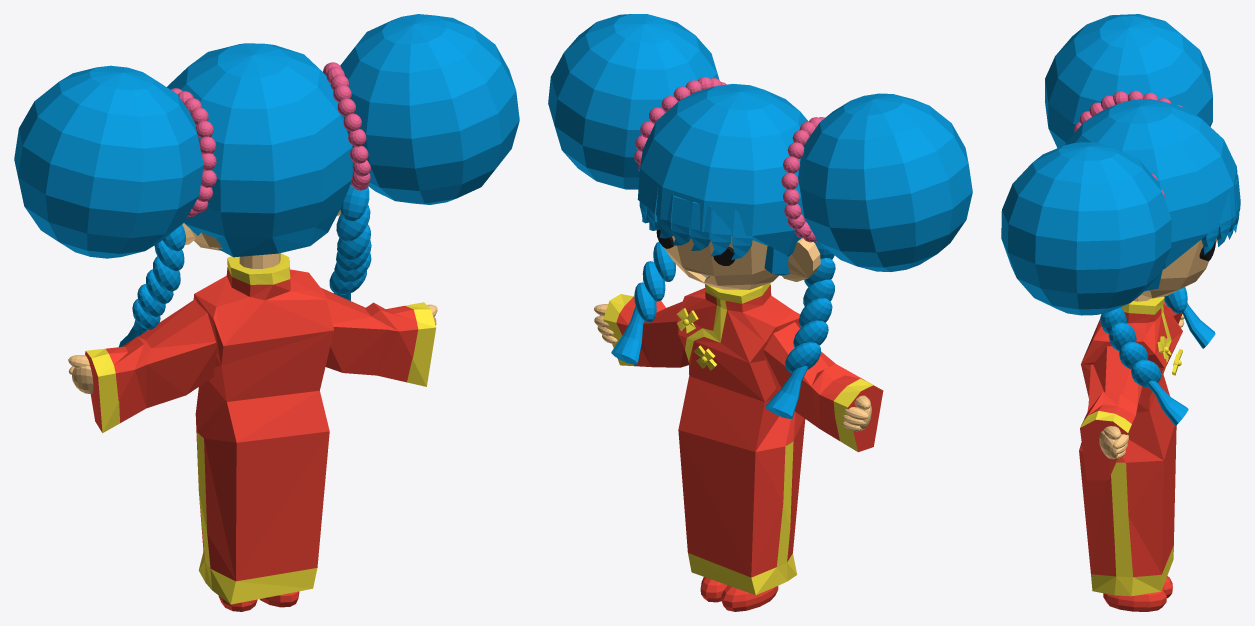
Rendered from SD Macross Minmay Doll.glb.
3 views of the same model, side by side, from view 1: azimuth 30°, elevation 25°; view 2: azimuth 150°, elevation 25°; view 3: azimuth 270°, elevation 25° (orthographic). The views are drawn at different scales.
Parts seen in each view (by area): view 1: group1231994779, group186524556, group1169180409, group1807102703, group80196070; view 2: group1231994779, group186524556, group1169180409, group1807102703, group80196070; view 3: group1231994779, group186524556, group1807102703, group80196070.
Part boxes in pixels (x1=…): group1231994779: x1=14, y1=14, x2=519, y2=347; group186524556: x1=193, y1=253, x2=333, y2=604; group1169180409: x1=68, y1=299, x2=216, y2=433; group1807102703: x1=320, y1=287, x2=437, y2=386; group80196070: x1=218, y1=591, x2=299, y2=611; group1231994779: x1=548, y1=14, x2=972, y2=418; group186524556: x1=678, y1=283, x2=805, y2=595; group1169180409: x1=764, y1=322, x2=883, y2=452; group1807102703: x1=594, y1=294, x2=688, y2=367; group80196070: x1=700, y1=577, x2=778, y2=611; group1231994779: x1=1001, y1=14, x2=1240, y2=425; group186524556: x1=1079, y1=296, x2=1182, y2=596; group1807102703: x1=1080, y1=346, x2=1142, y2=480; group80196070: x1=1103, y1=576, x2=1172, y2=611.
Size of the model in its own units: 1.4 by 1.66 by 0.7049.
